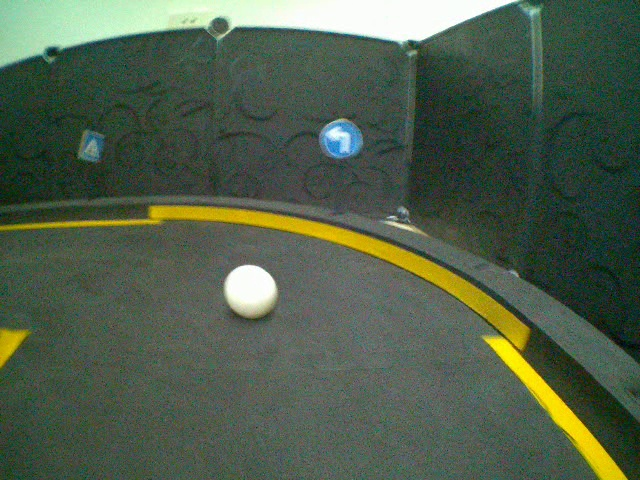ball: (223, 263, 280, 320)
